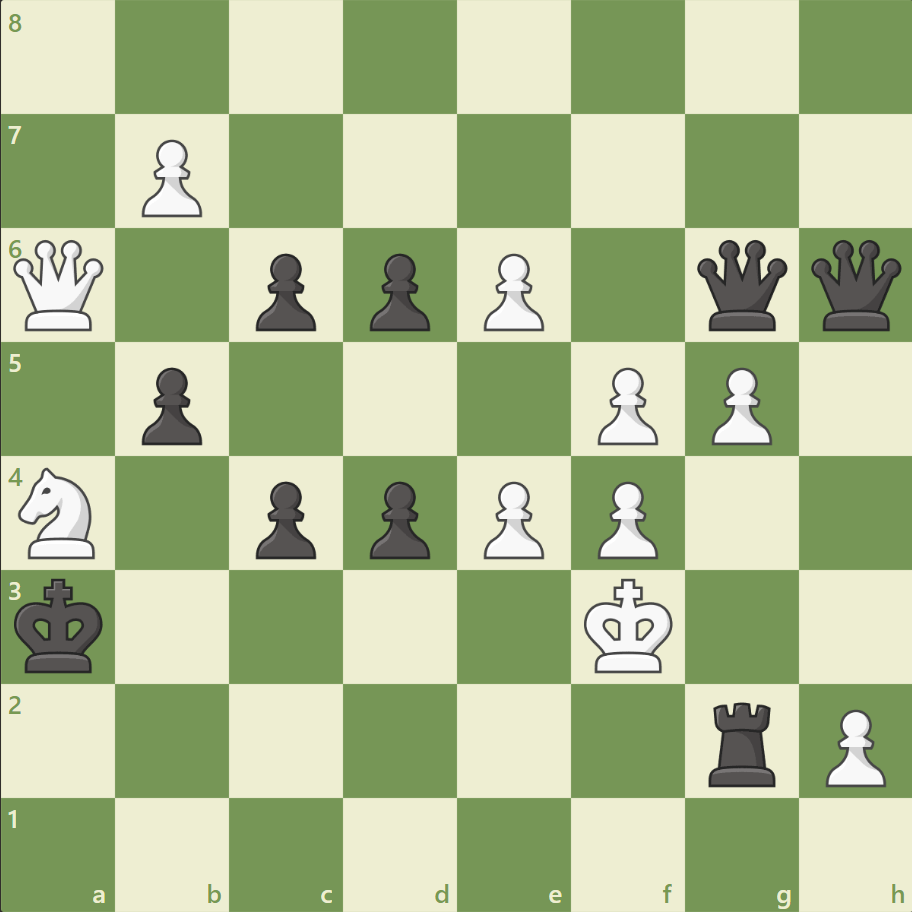K: (579, 571, 679, 679)
N: (11, 461, 108, 564)
P: (133, 132, 208, 223), (474, 246, 549, 337), (701, 359, 776, 450), (474, 473, 549, 564), (588, 359, 662, 450), (588, 473, 662, 564), (815, 700, 889, 791)
Q: (10, 236, 109, 335)
k: (11, 571, 111, 679)
p: (247, 246, 322, 337), (133, 359, 208, 450), (247, 473, 322, 564), (361, 246, 435, 337), (361, 473, 435, 564)
q: (691, 236, 790, 335), (805, 236, 904, 335)
r: (700, 693, 783, 790)
